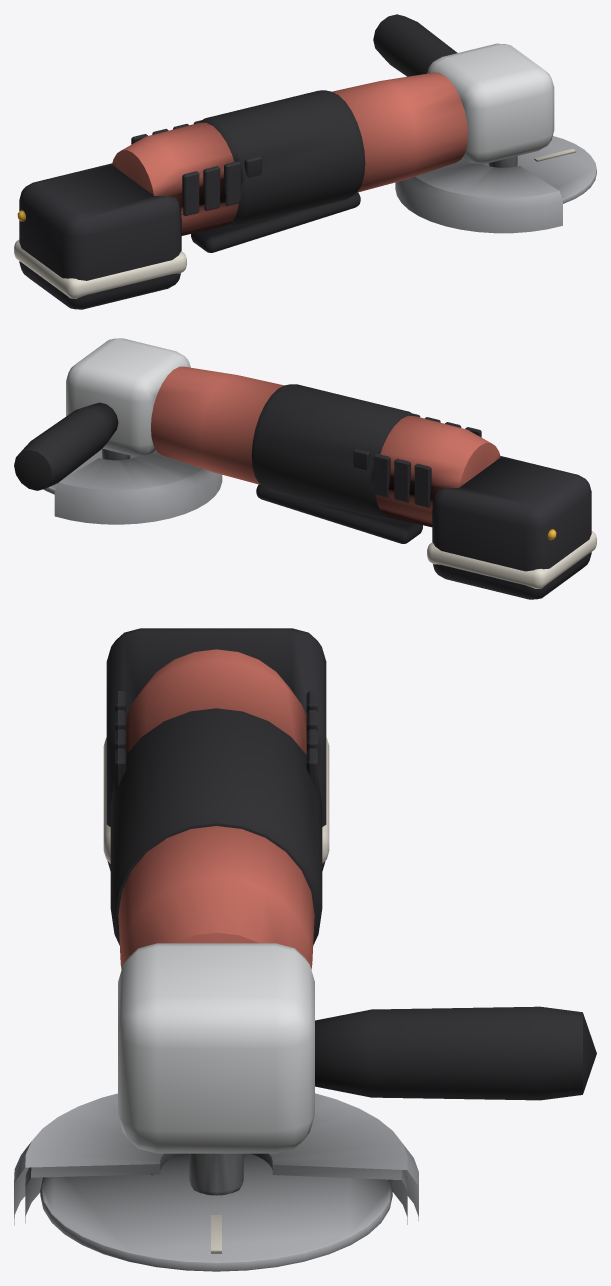
Rendered from nd_grinder.glb.
3 renders of one model, top to bottom at view 1: azimuth 30°, elevation 25°; view 2: azimuth 150°, elevation 25°; view 3: azimuth 270°, elevation 25°, orthographic. The views are drawn at different scales.
Visible parts, largest first — view 1: PART, KNOB_disc; view 2: PART; view 3: PART, KNOB_disc.
Boxes of the visible parts, box(x1,y1,x2,y2) form: PART: box(14, 14, 562, 309); KNOB_disc: box(482, 136, 596, 203); PART: box(14, 338, 596, 599); PART: box(14, 628, 596, 1225); KNOB_disc: box(40, 1153, 392, 1271).
Size of the model in its own units: 0.4213 by 0.0995 by 0.2069.
